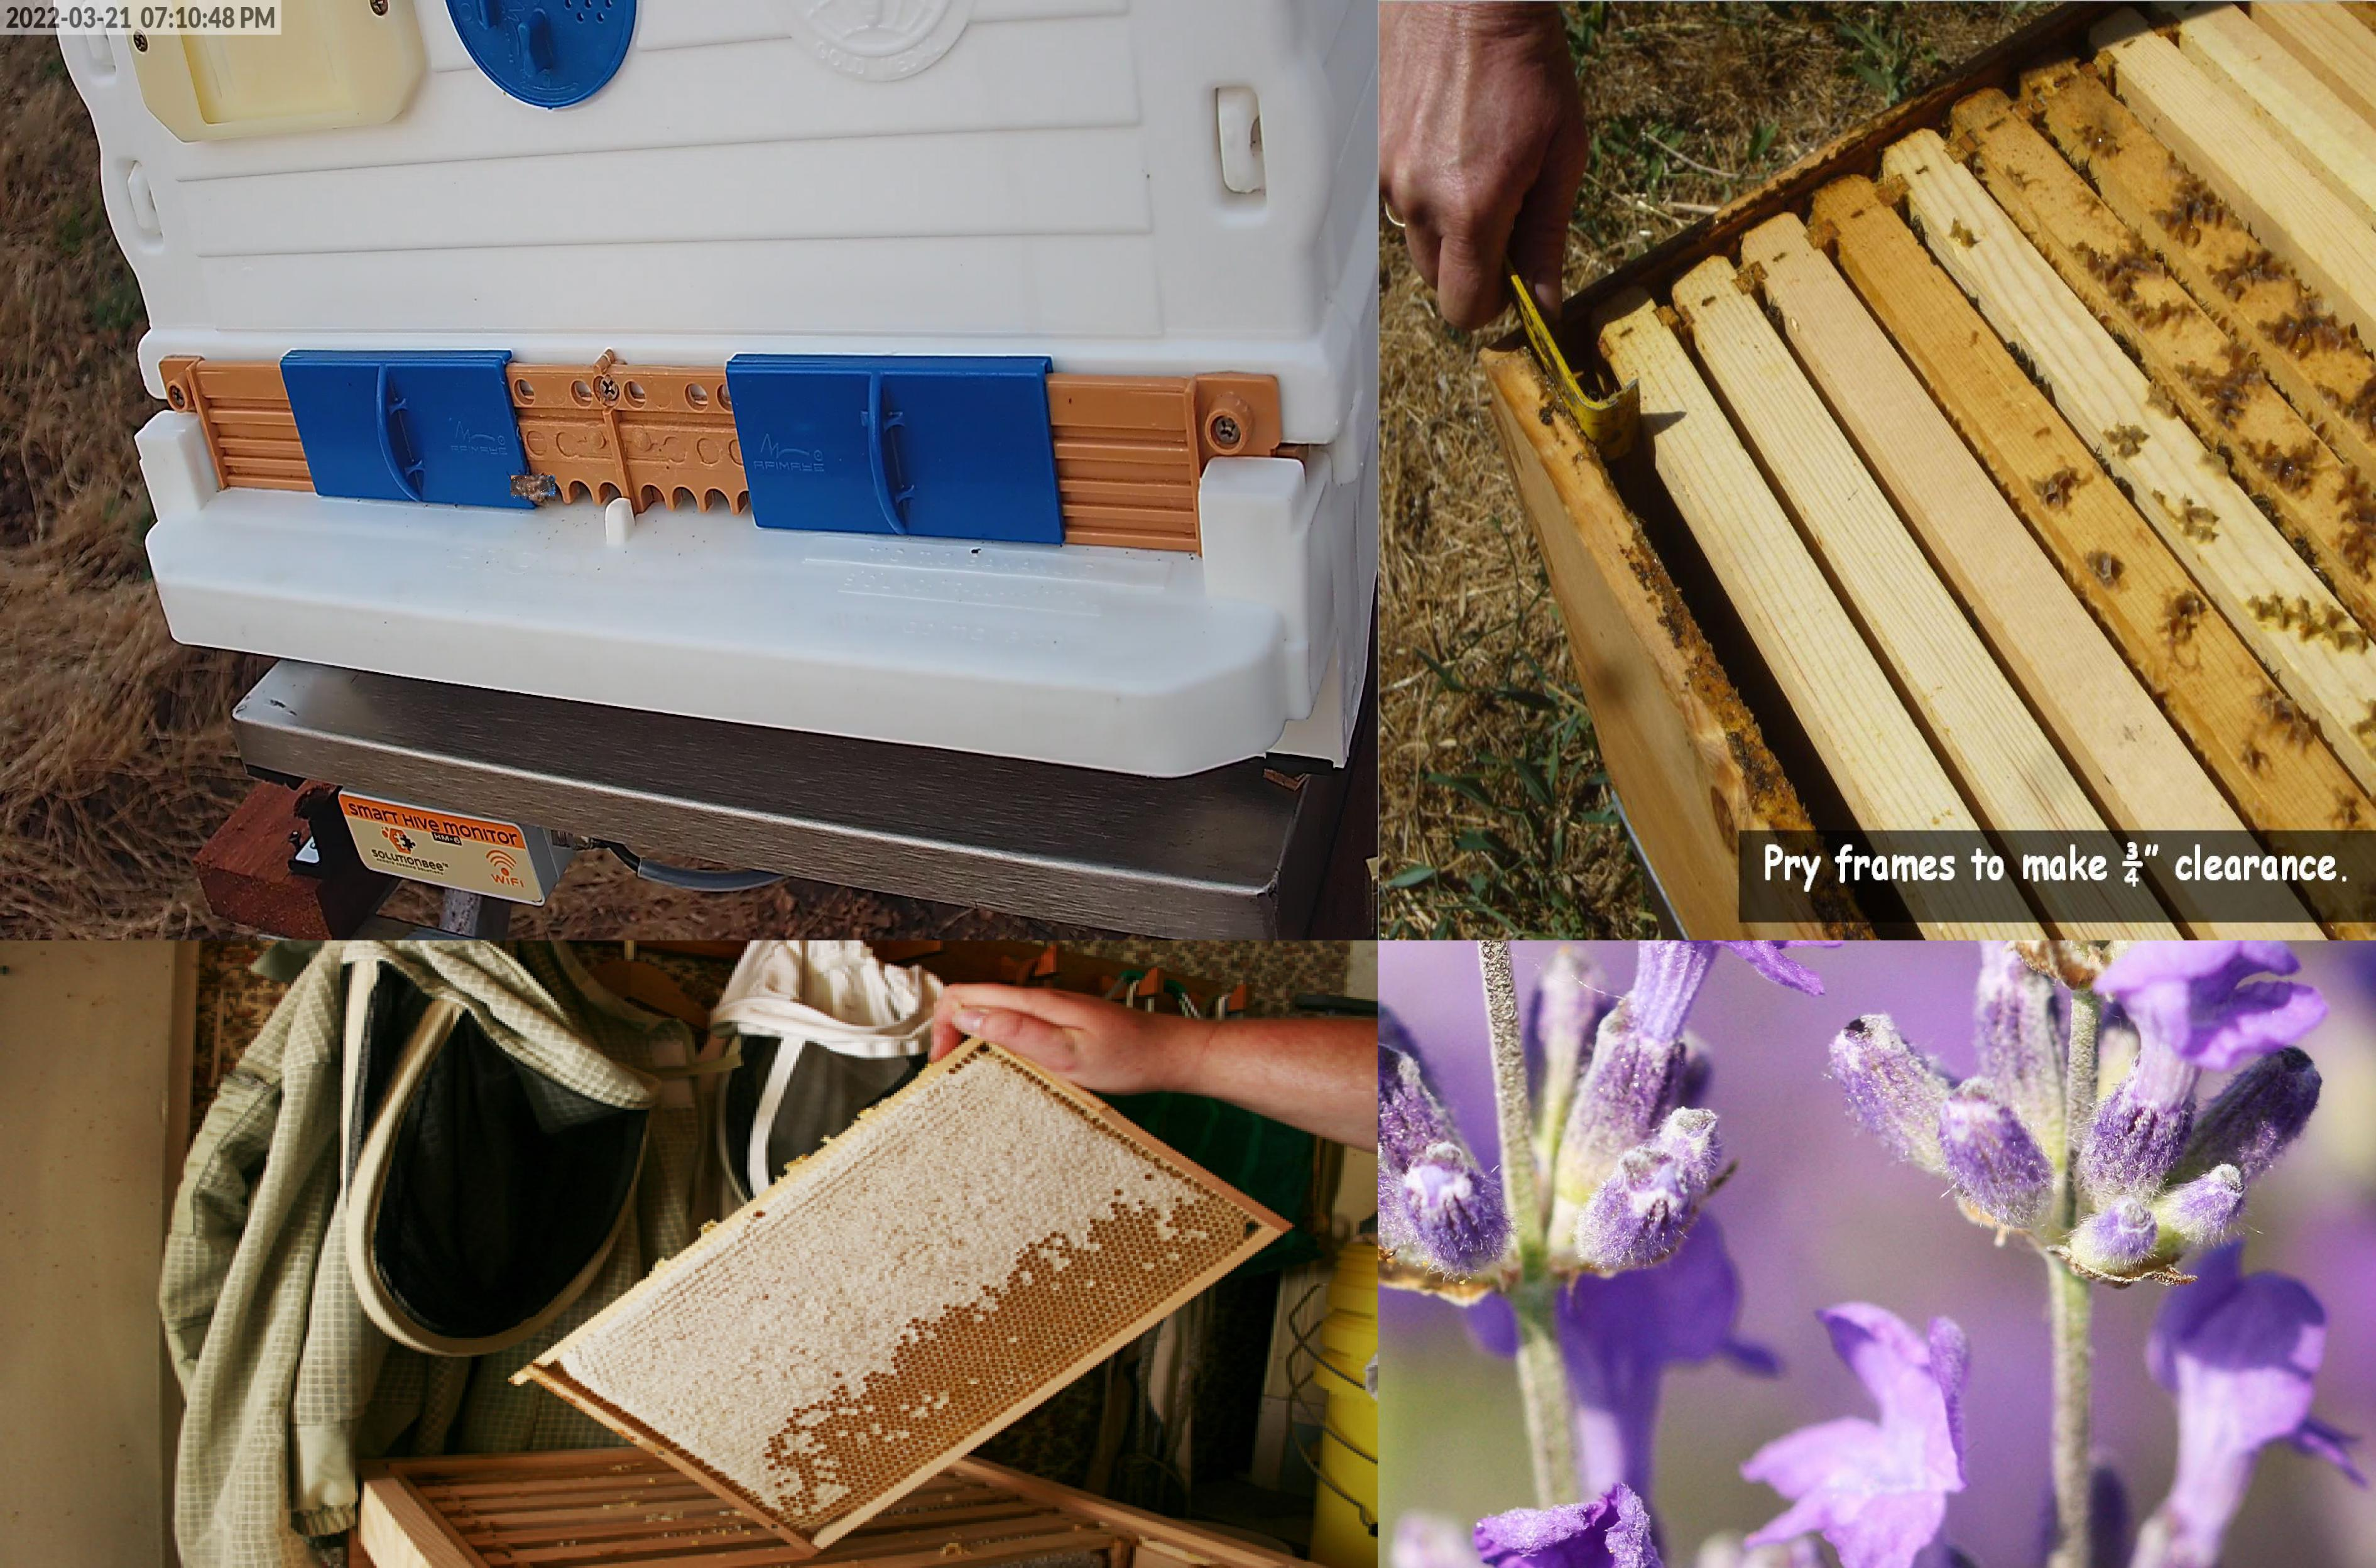bee: (511, 476, 556, 499)
